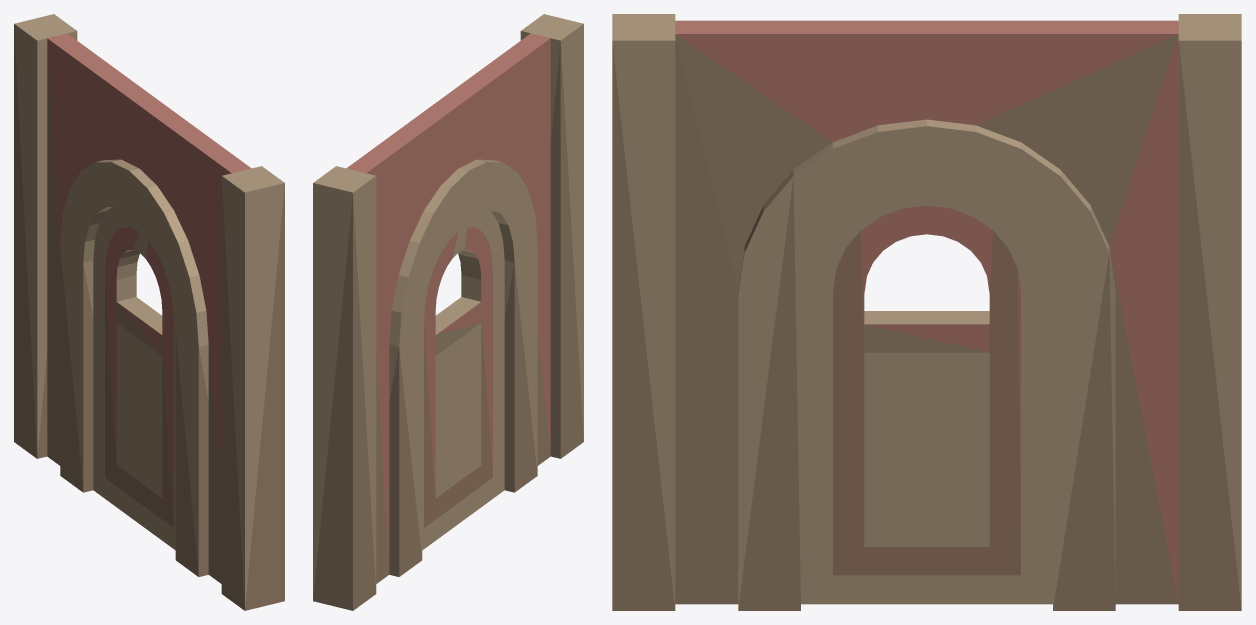
The picture shows the model from 3 angles, left to right: view 1: azimuth 30°, elevation 25°; view 2: azimuth 150°, elevation 25°; view 3: azimuth 270°, elevation 25°; orthographic projection. The views are drawn at different scales.
Visible parts, largest first — view 1: model; view 2: model; view 3: model.
Part boxes in pixels (x1=…): model: x1=14, y1=14, x2=284, y2=610; model: x1=313, y1=14, x2=583, y2=610; model: x1=612, y1=14, x2=1241, y2=610.
Size of the model in its own units: 0.2 by 2 by 2.
